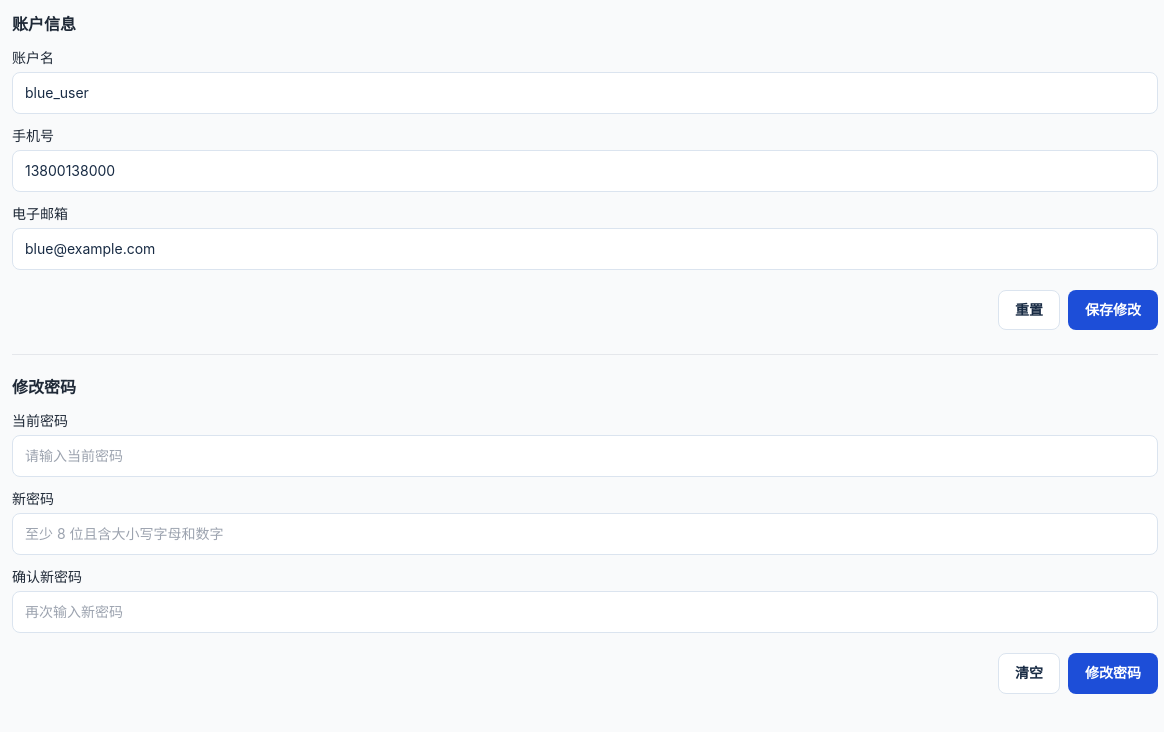
SettingsAccount › checks the hydrated owner before accepting a token-only PATCH response
Replace the text in the field with id "settings-account-username" with "token_only_draft" at (585, 93), box [12,72,1158,114]
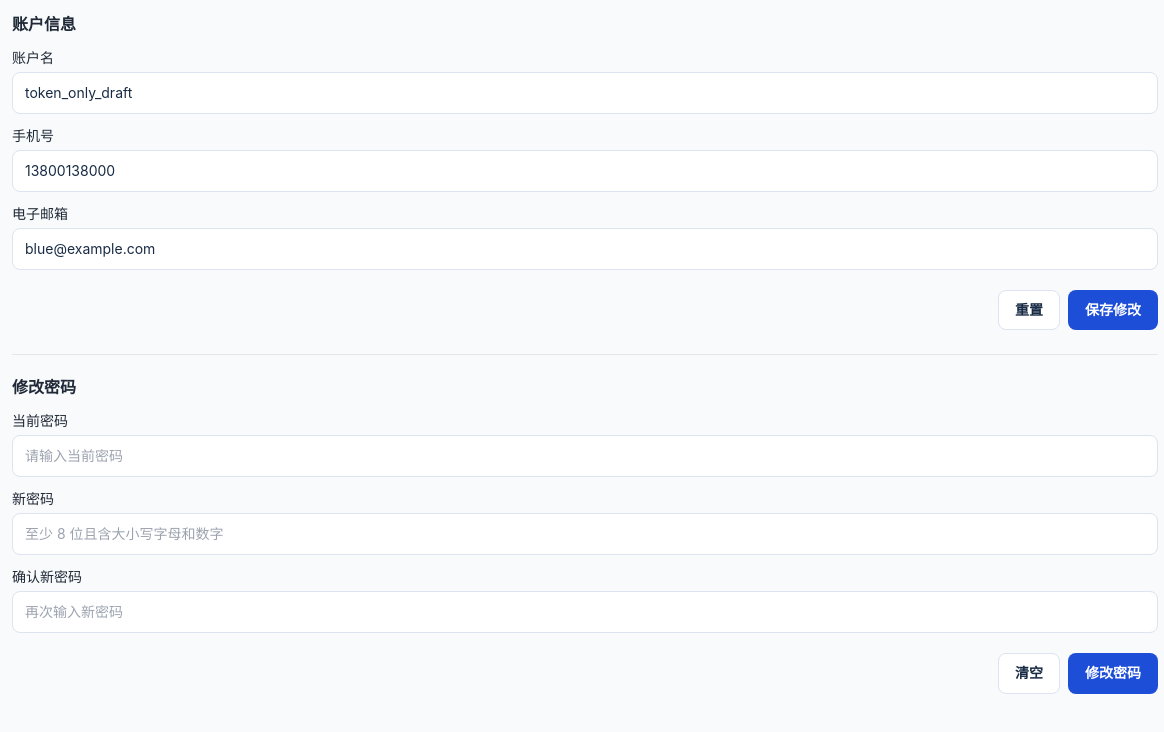
Click the button "保存修改" at (1113, 310), box [1068,290,1158,330]
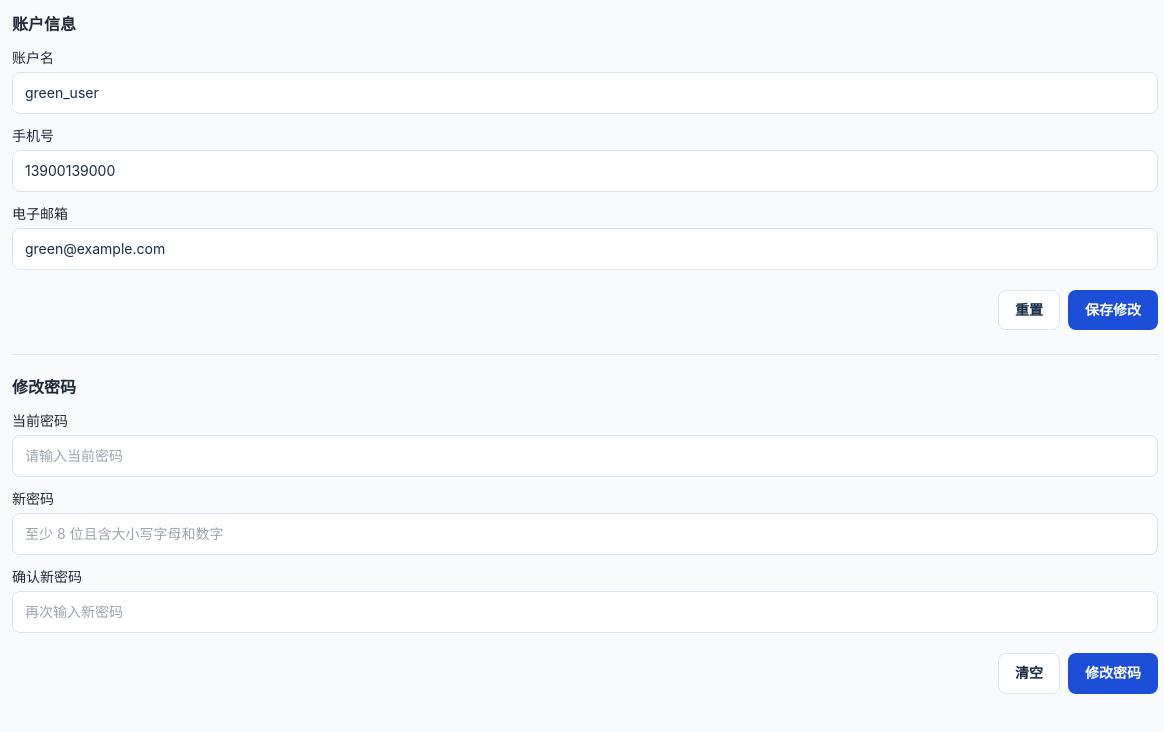
Result: the field with id "settings-account-username" holds "green_user" at [12,72,1158,114]
